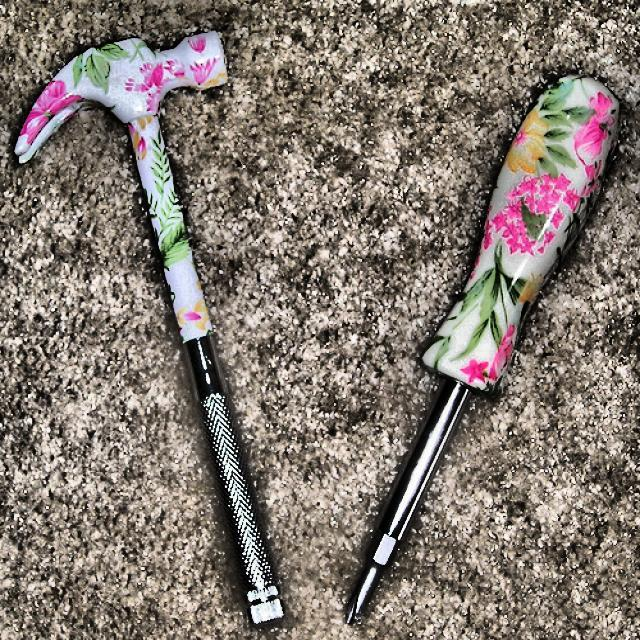screwdriver: (347, 74, 622, 626)
